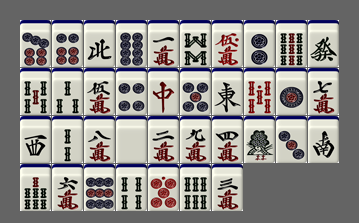0m: (212, 20, 243, 67)
0p: (148, 164, 179, 211)
0s: (244, 68, 275, 115)
1m: (148, 20, 179, 67)
1p: (276, 68, 307, 115)
1s: (244, 116, 275, 163)
1z: (212, 68, 243, 115)
2m: (148, 116, 179, 163)
2p: (244, 20, 275, 67)
2s: (52, 116, 83, 163)
2z: (308, 116, 339, 163)
3m: (212, 164, 243, 211)
3p: (276, 116, 307, 163)
3s: (52, 68, 83, 115)
3z: (20, 116, 51, 163)
4m: (212, 116, 243, 163)
4p: (116, 68, 147, 115)
4s: (116, 164, 147, 211)
4z: (84, 20, 115, 67)
5m: (84, 68, 115, 115)
5p: (180, 68, 211, 115)
5s: (20, 68, 51, 115)
5z: (116, 116, 147, 163)
6m: (52, 164, 83, 211)
6p: (52, 20, 83, 67)
6s: (180, 164, 211, 211)
6z: (308, 20, 339, 67)
7m: (308, 68, 339, 115)
7p: (20, 20, 51, 67)
7s: (20, 164, 51, 211)
7z: (148, 68, 179, 115)
8m: (84, 116, 115, 163)
8p: (116, 20, 147, 67)
8s: (180, 20, 211, 67)
9m: (180, 116, 211, 163)
9p: (84, 164, 115, 211)
9s: (276, 20, 307, 67)
